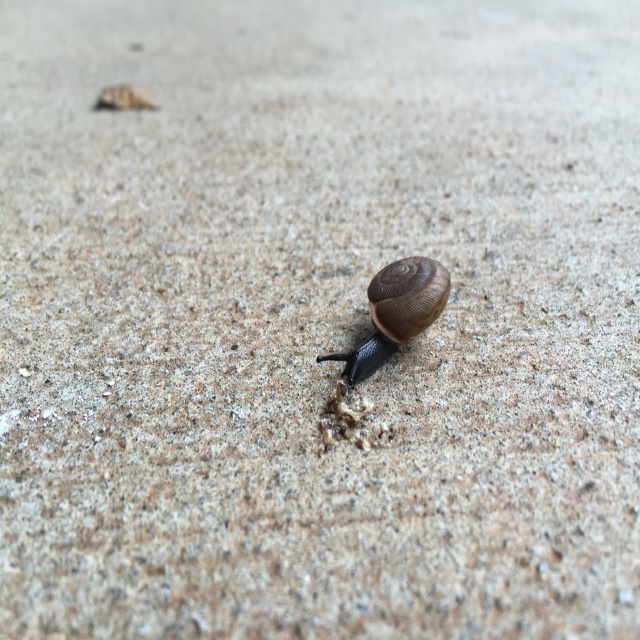Snail: (318, 249, 458, 396)
